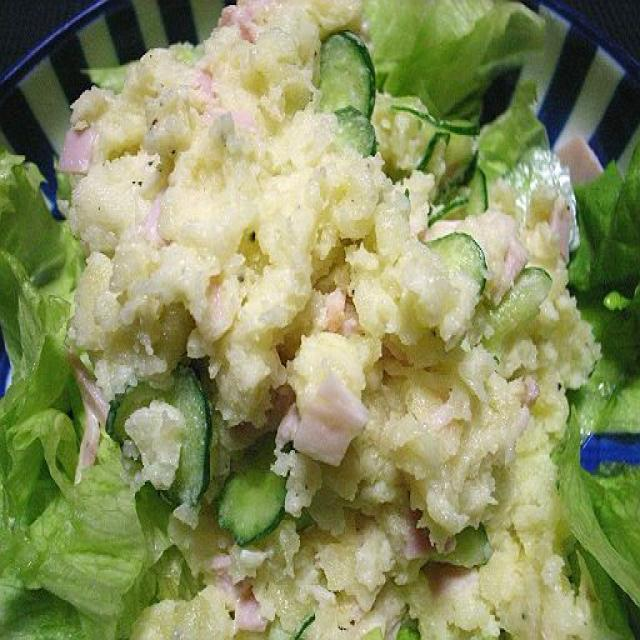蔬菜料理: (0, 1, 635, 640)
